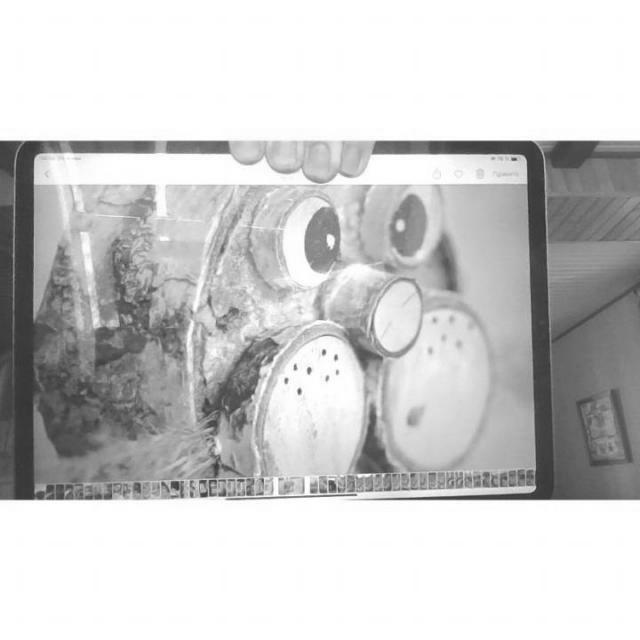fake: (12, 140, 550, 498)
